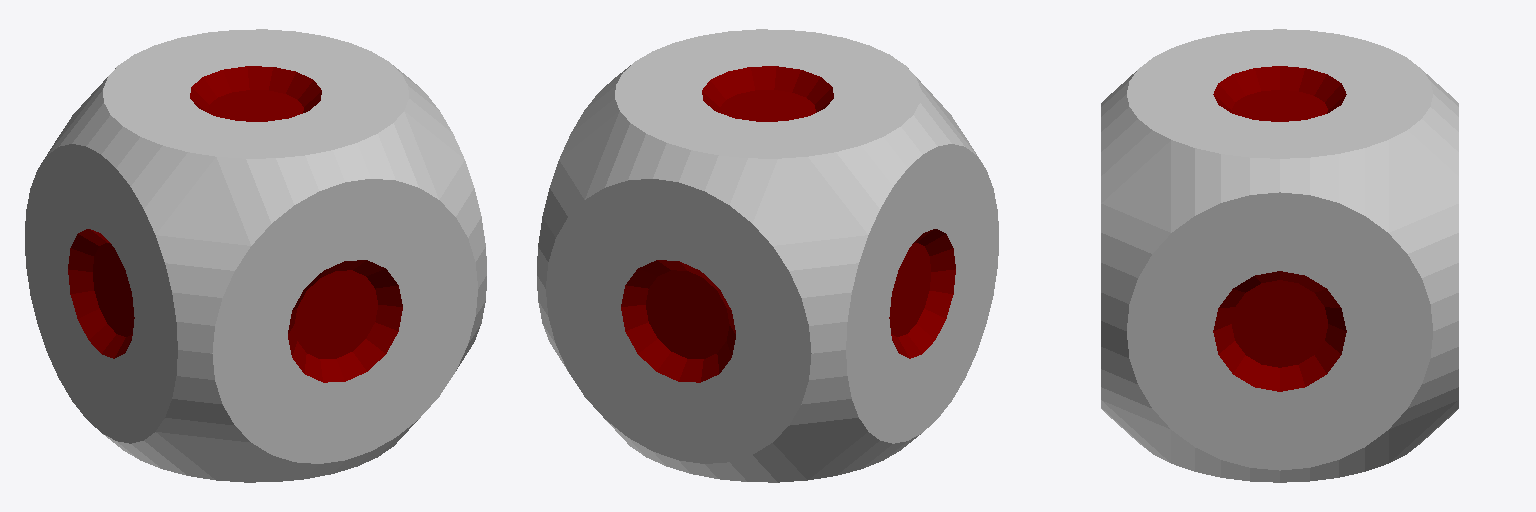
The model's file is dice.obj.
3 renders of one model, left to right at view 1: azimuth 30°, elevation 25°; view 2: azimuth 150°, elevation 25°; view 3: azimuth 270°, elevation 25°, orthographic.
Visible parts, largest first — view 1: Cylinder; view 2: Cylinder; view 3: Cylinder.
Boxes of the visible parts, <box> form: Cylinder: <box>25,29,486,482</box>; Cylinder: <box>537,29,998,482</box>; Cylinder: <box>1101,29,1458,482</box>.
Bounding box in the file's own units: 1 × 1 × 1.